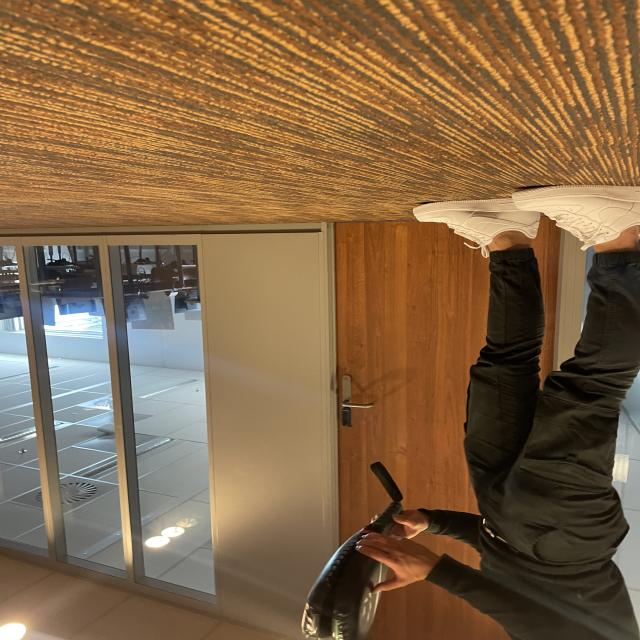paddle: (302, 549, 389, 639)
